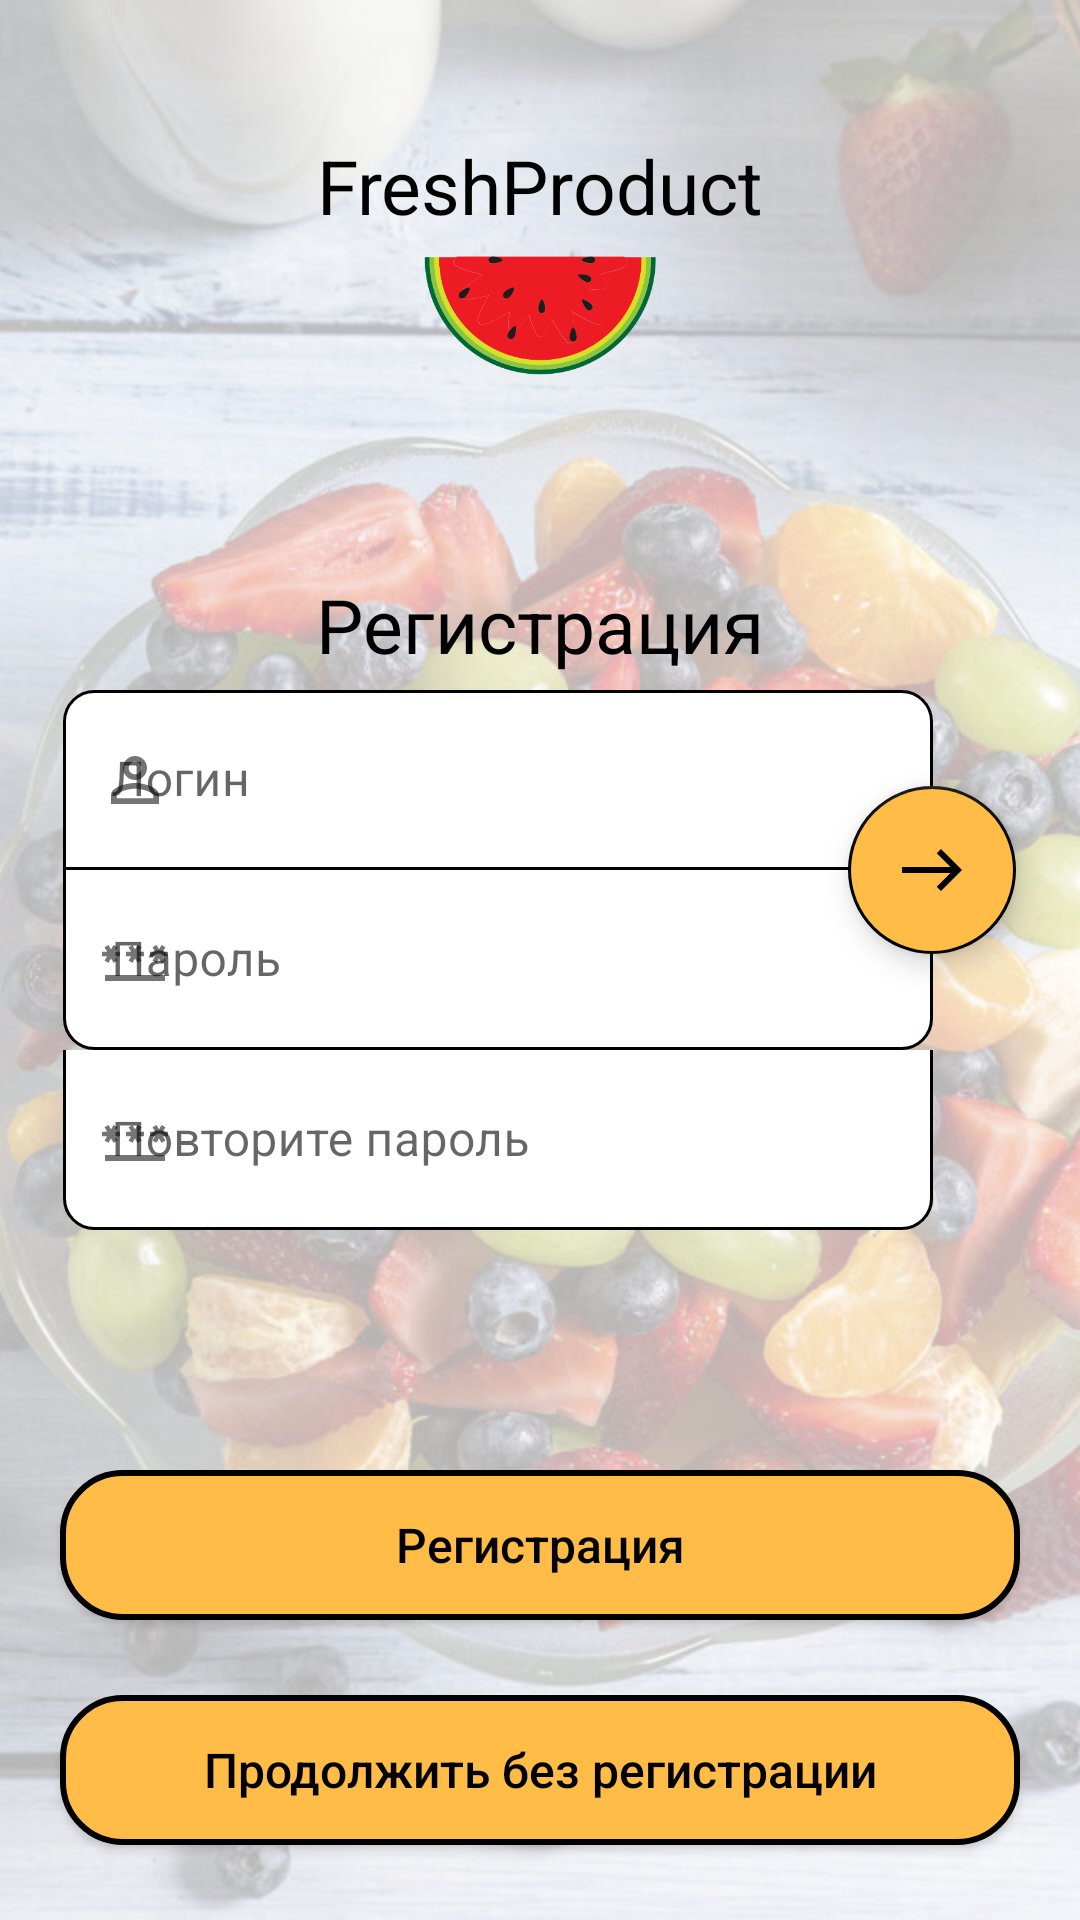

Screen size 1080x1920. Icon name, then its center in pixels as [x,y]:
arbuz: [540,315]
next: [932,870]
